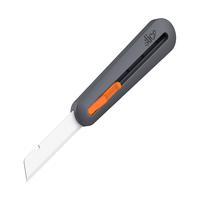knife: (16, 11, 175, 186)
